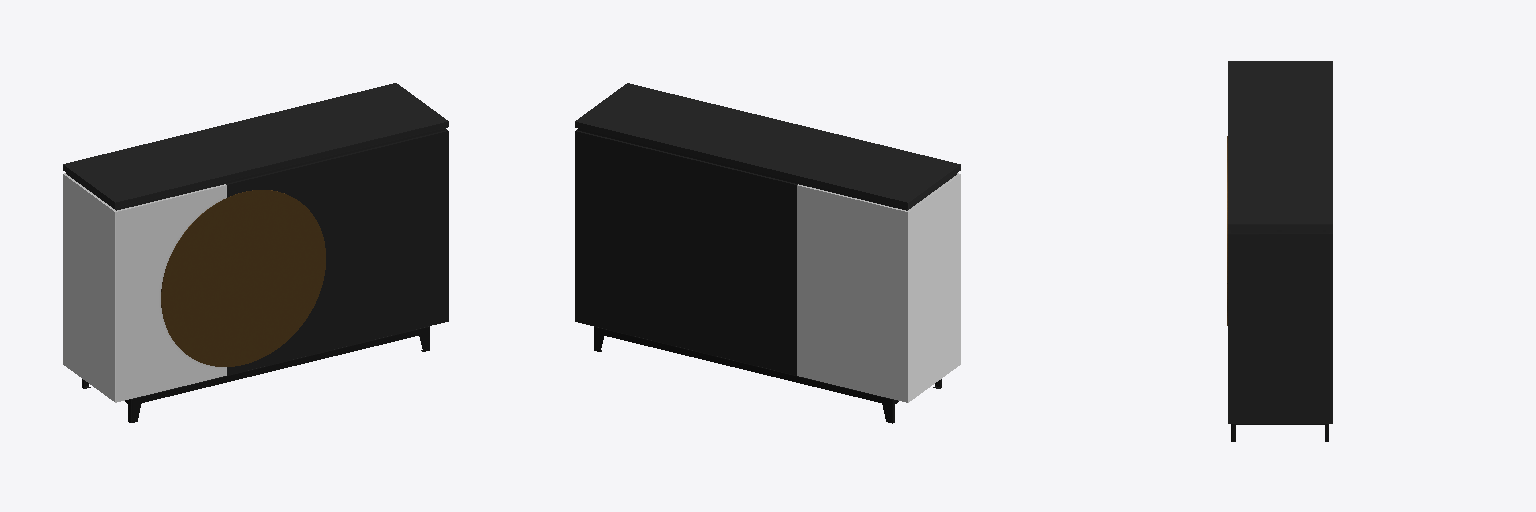
3 views of the same model, side by side, from view 1: azimuth 30°, elevation 25°; view 2: azimuth 150°, elevation 25°; view 3: azimuth 270°, elevation 25° (orthographic).
Visible parts, largest first — view 1: solid_003, solid_004, solid_002, solid_001, solid_005; view 2: solid_003, solid_004, solid_001, solid_005; view 3: solid_003, solid_001.
Part boxes in pixels (left/top/right/bottom): solid_003: left=226, top=128, right=448, bottom=375; solid_004: left=63, top=173, right=226, bottom=402; solid_002: left=161, top=190, right=325, bottom=366; solid_001: left=63, top=83, right=448, bottom=210; solid_005: left=82, top=326, right=429, bottom=422; solid_003: left=575, top=129, right=797, bottom=375; solid_004: left=797, top=173, right=960, bottom=402; solid_001: left=575, top=83, right=960, bottom=210; solid_005: left=594, top=326, right=941, bottom=423; solid_003: left=1228, top=230, right=1332, bottom=423; solid_001: left=1228, top=61, right=1332, bottom=232.
Bounding box in the file's own units: 1.74 × 1.13 × 0.4781.
Materials: 1 (1 with a texture image).